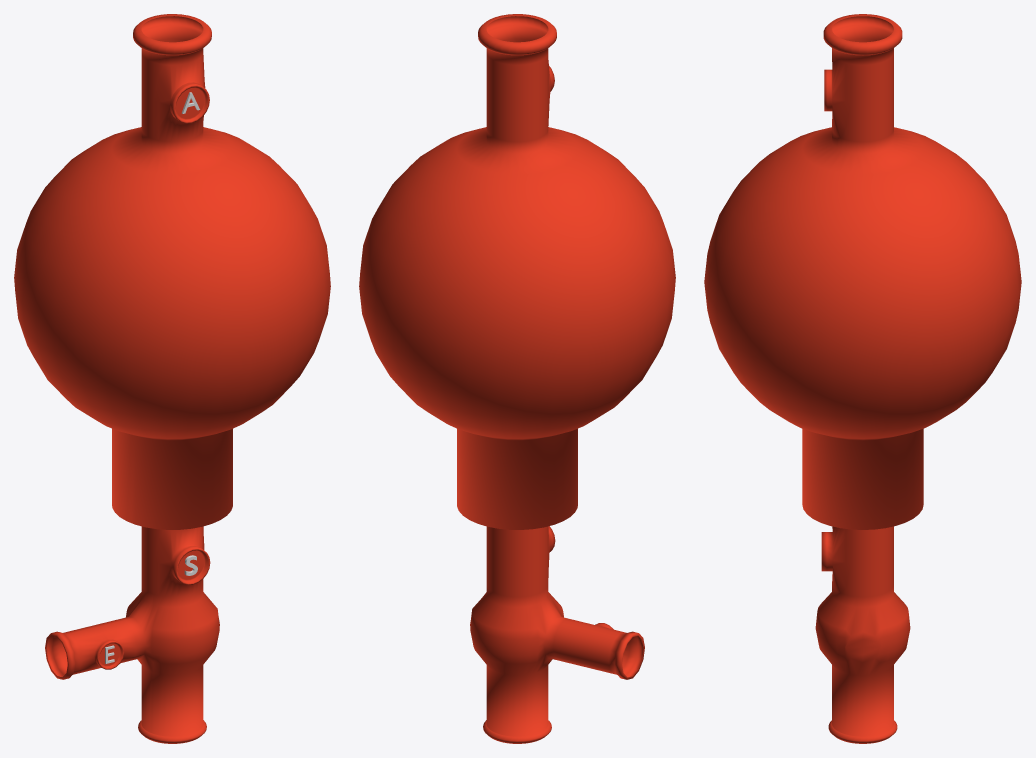
The model's file is Propipet.fbx.
The picture shows the model from 3 angles, left to right: view 1: azimuth 30°, elevation 25°; view 2: azimuth 150°, elevation 25°; view 3: azimuth 270°, elevation 25°; orthographic projection.
Parts seen in each view (by area): view 1: Sphere; view 2: Sphere; view 3: Sphere.
Part boxes in pixels (bbox=[...]): Sphere: bbox=[14, 14, 330, 743]; Sphere: bbox=[359, 14, 675, 743]; Sphere: bbox=[704, 14, 1021, 743].
Bounding box in the file's own units: 200 × 488 × 200.
